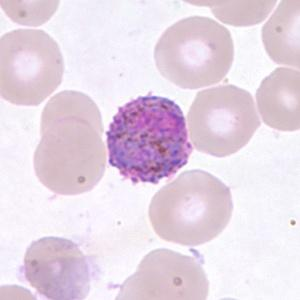Infected: (104, 94, 191, 181)
Uninfected: (147, 170, 233, 248), (154, 16, 234, 88), (32, 120, 107, 196), (187, 84, 260, 155), (0, 26, 63, 105), (26, 237, 93, 300), (41, 92, 104, 156)
